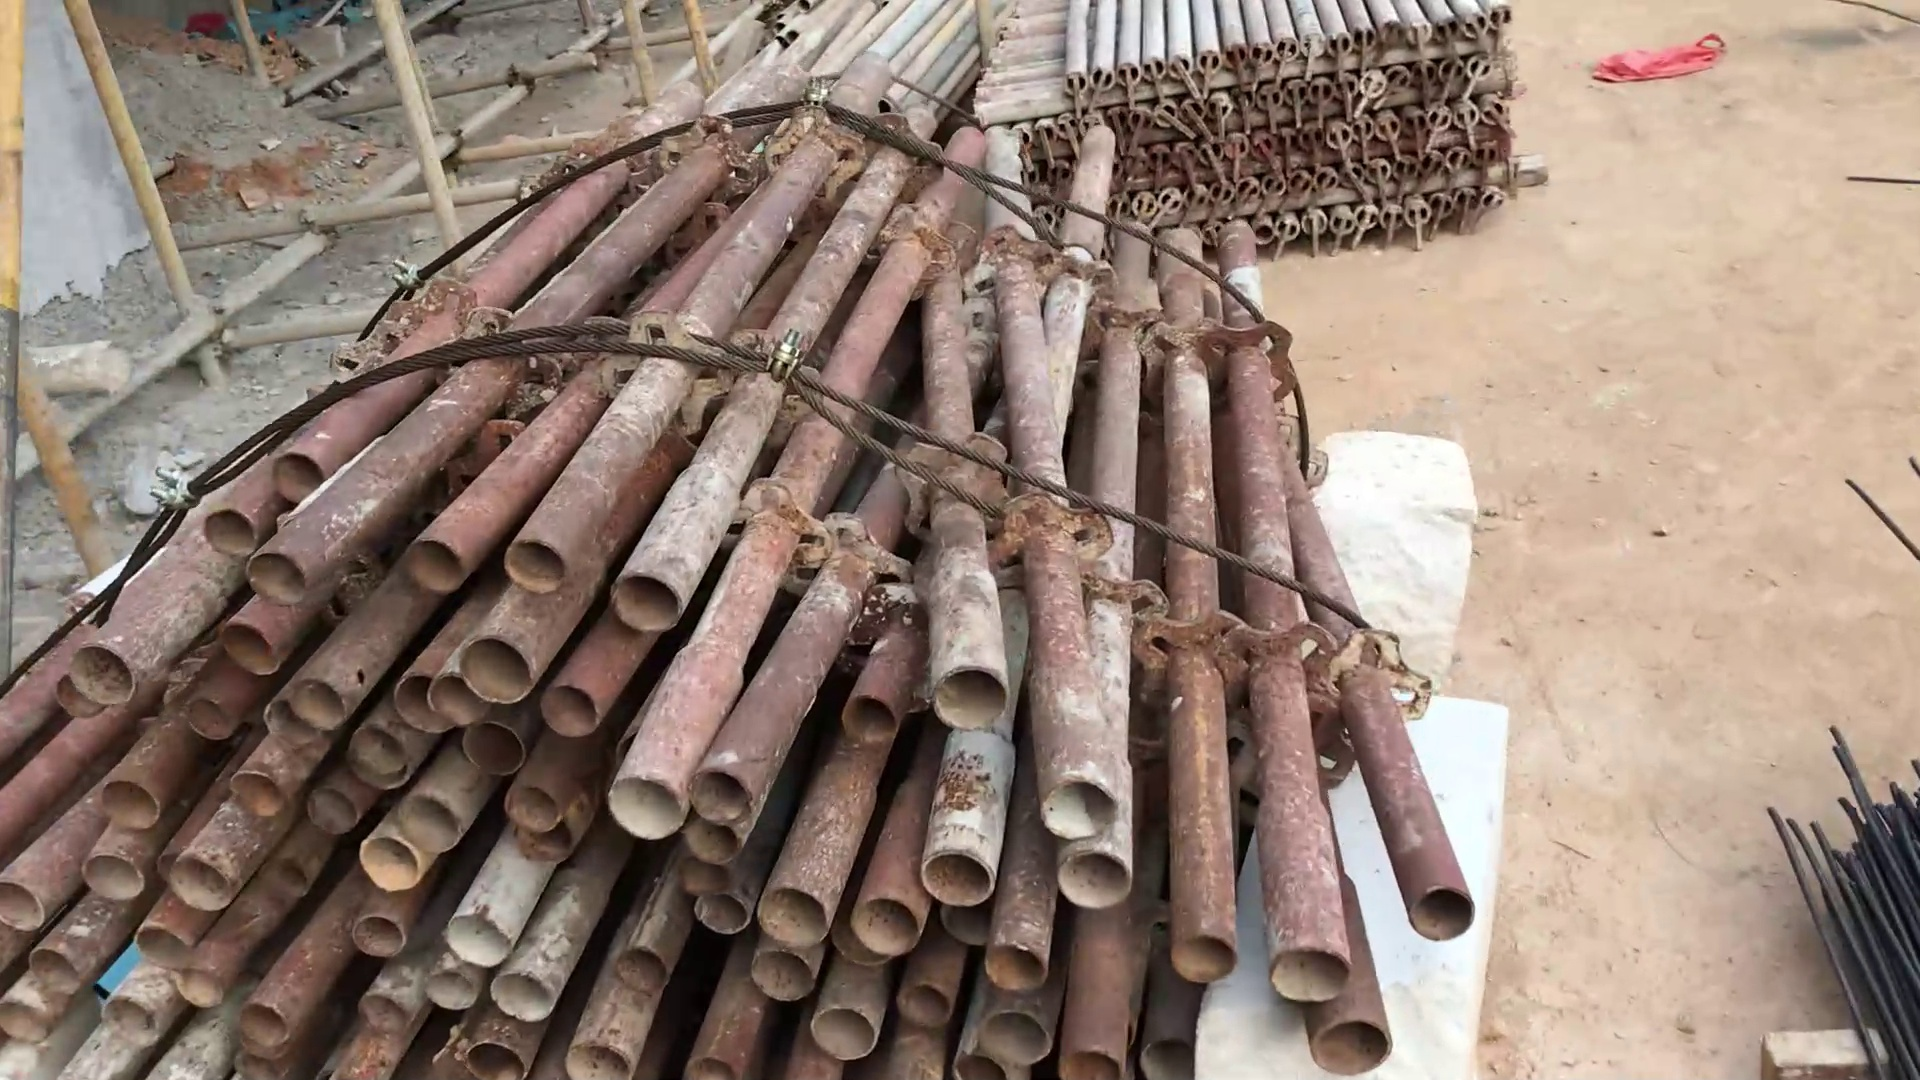scaffold: (5, 57, 1484, 1080), (1083, 1, 1522, 255)
